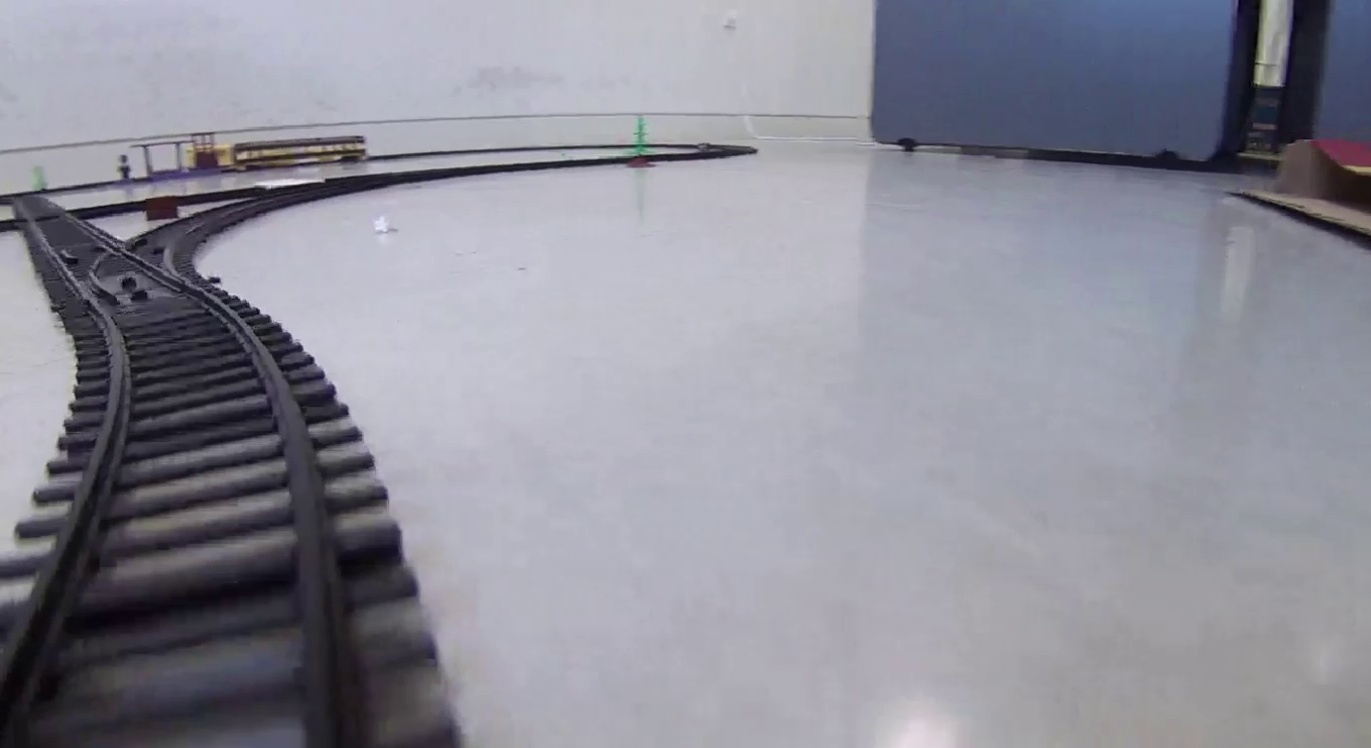box: (144, 195, 183, 222)
